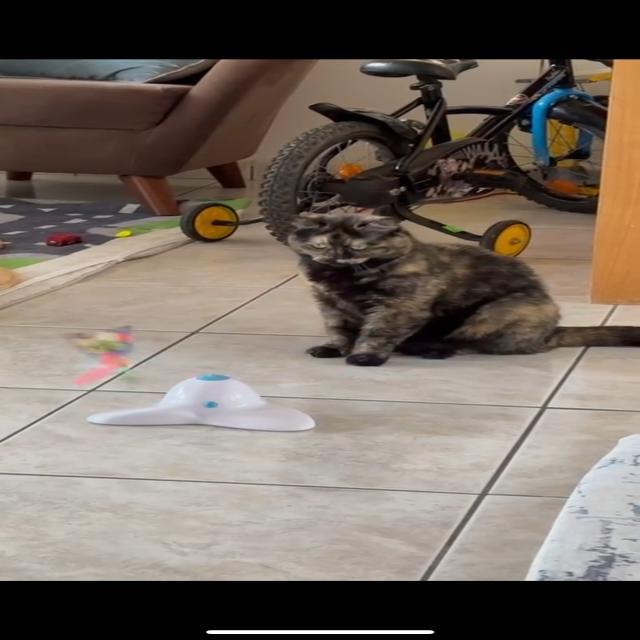authorized: (286, 210, 638, 366)
